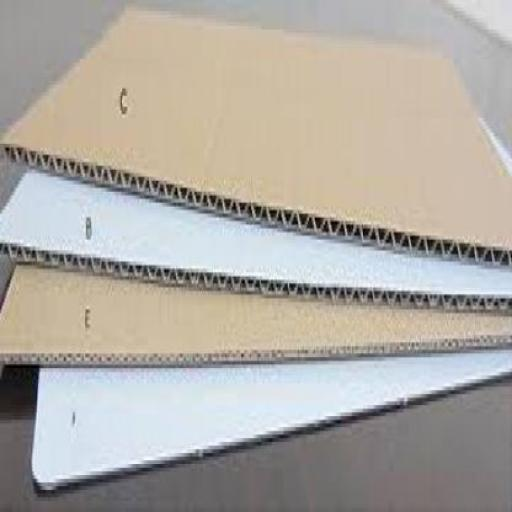cardboard: (0, 14, 511, 262), (0, 162, 511, 309), (30, 346, 510, 497), (0, 265, 511, 354), (481, 110, 510, 177)
